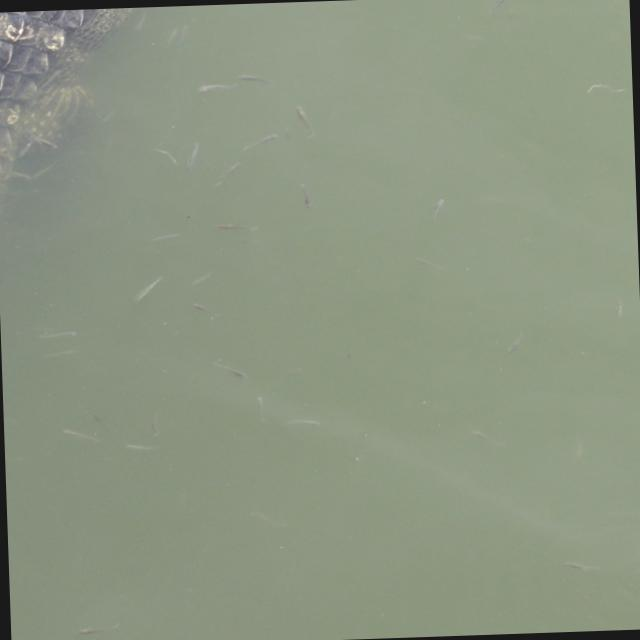Sivrisinek Baligi: (124, 274, 170, 306), (157, 19, 198, 50), (241, 507, 292, 529), (208, 160, 244, 188), (178, 140, 206, 172), (210, 360, 254, 380), (240, 131, 279, 152), (294, 100, 315, 136), (191, 80, 238, 96), (54, 426, 100, 442), (296, 180, 319, 208), (236, 69, 273, 86), (278, 416, 330, 428), (37, 328, 80, 340), (212, 221, 252, 233), (150, 230, 183, 243), (120, 441, 154, 452)
